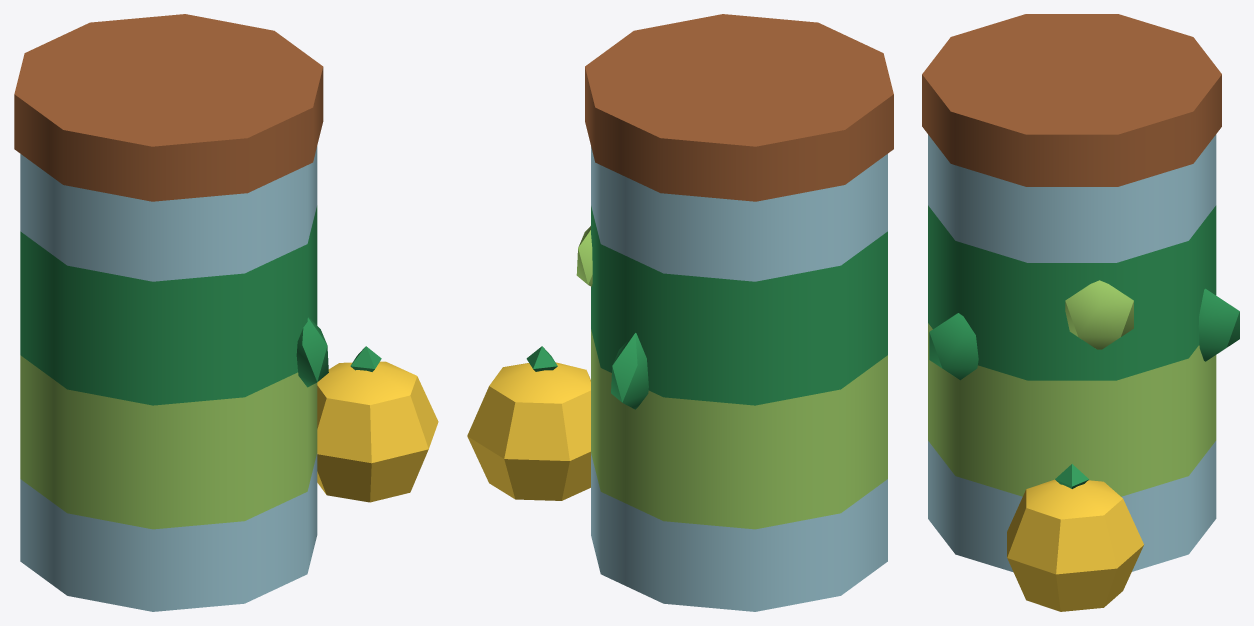
File: prop_green_tea_jar.glb
3 views of the same model, side by side, from view 1: azimuth 30°, elevation 25°; view 2: azimuth 150°, elevation 25°; view 3: azimuth 270°, elevation 25° (orthographic). The views are drawn at different scales.
Parts seen in each view (by area): view 1: prop_green_tea_jar; view 2: prop_green_tea_jar; view 3: prop_green_tea_jar.
Boxes of the visible parts, left/top/right/bottom form: prop_green_tea_jar: left=14, top=14, right=438, bottom=611; prop_green_tea_jar: left=467, top=14, right=893, bottom=611; prop_green_tea_jar: left=922, top=14, right=1239, bottom=611.
Bounding box in the file's own units: 0.1488 × 0.17 × 0.1102.
1 material, 1 textured.
